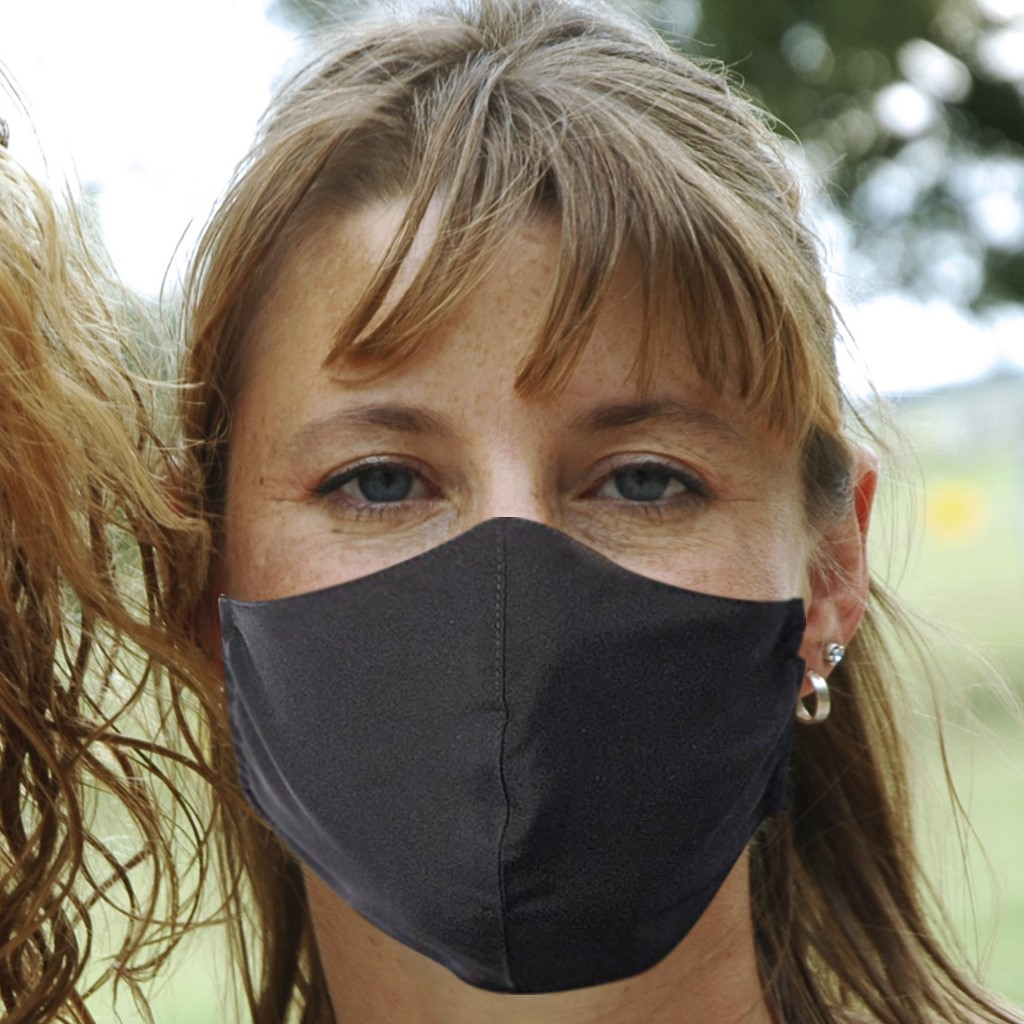con_mascara: (220, 208, 795, 964)
